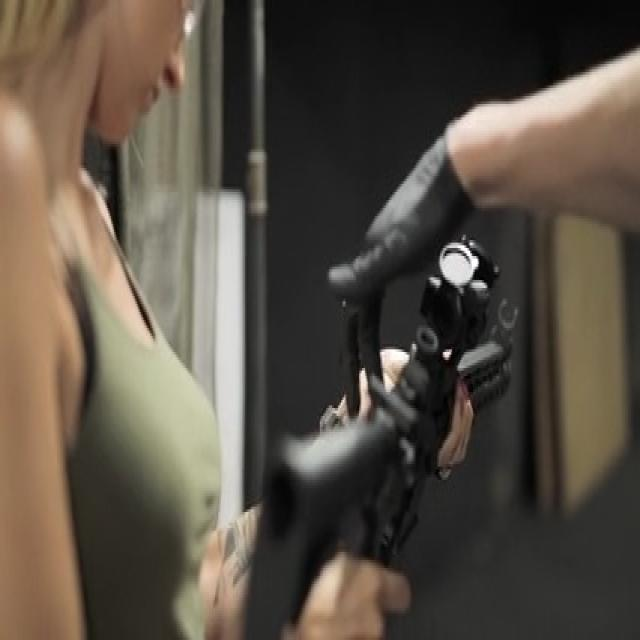Gun_Holder: (242, 224, 640, 637)
Person: (1, 0, 320, 640)
